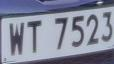2: (85, 12, 102, 49)
3: (100, 9, 114, 48)
5: (69, 12, 87, 52)
7: (50, 13, 71, 54)
T: (25, 17, 46, 59)
W: (7, 19, 27, 61)
